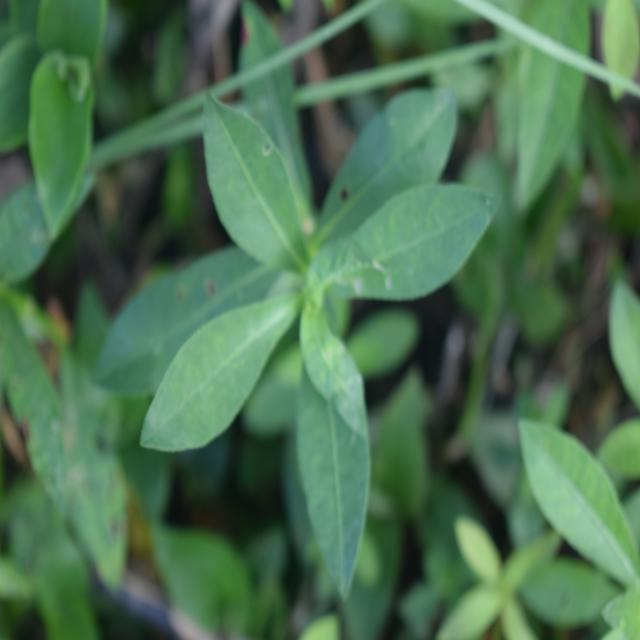Alligatorweed: (157, 87, 502, 557)
